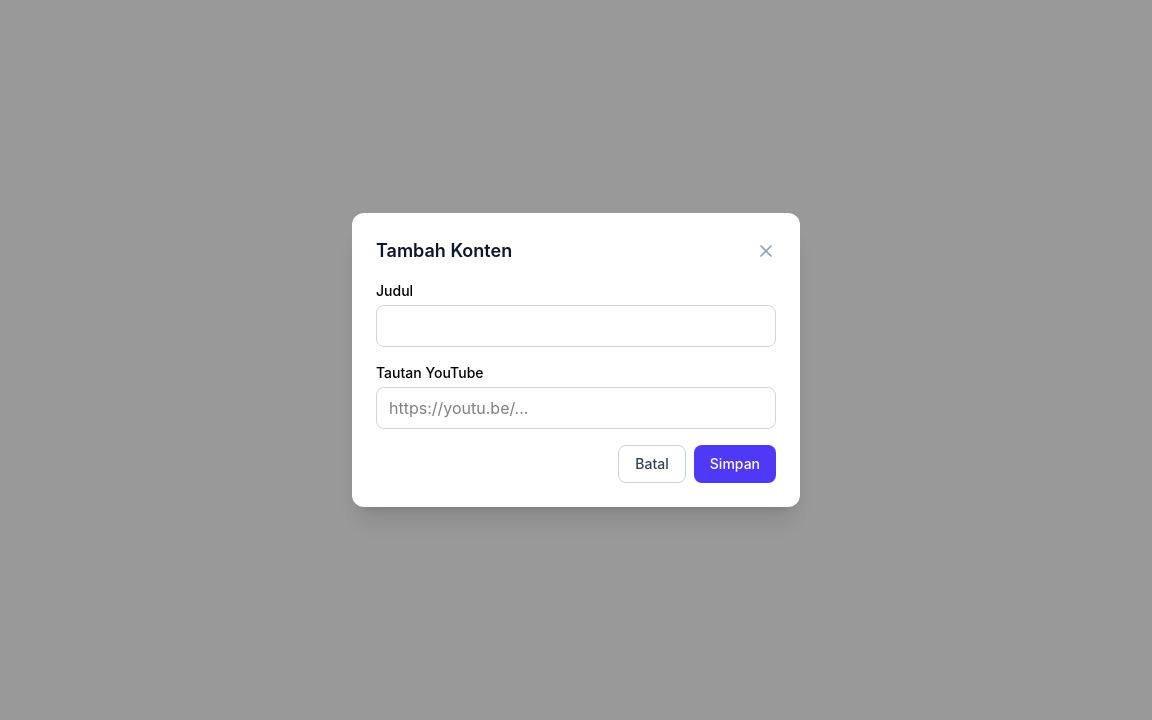
it: ContentModal (tambah) › menolak isian kosong
The width and height of the screenshot is (1152, 720).
Click the button "Simpan" at (735, 464), box [694,445,776,483]
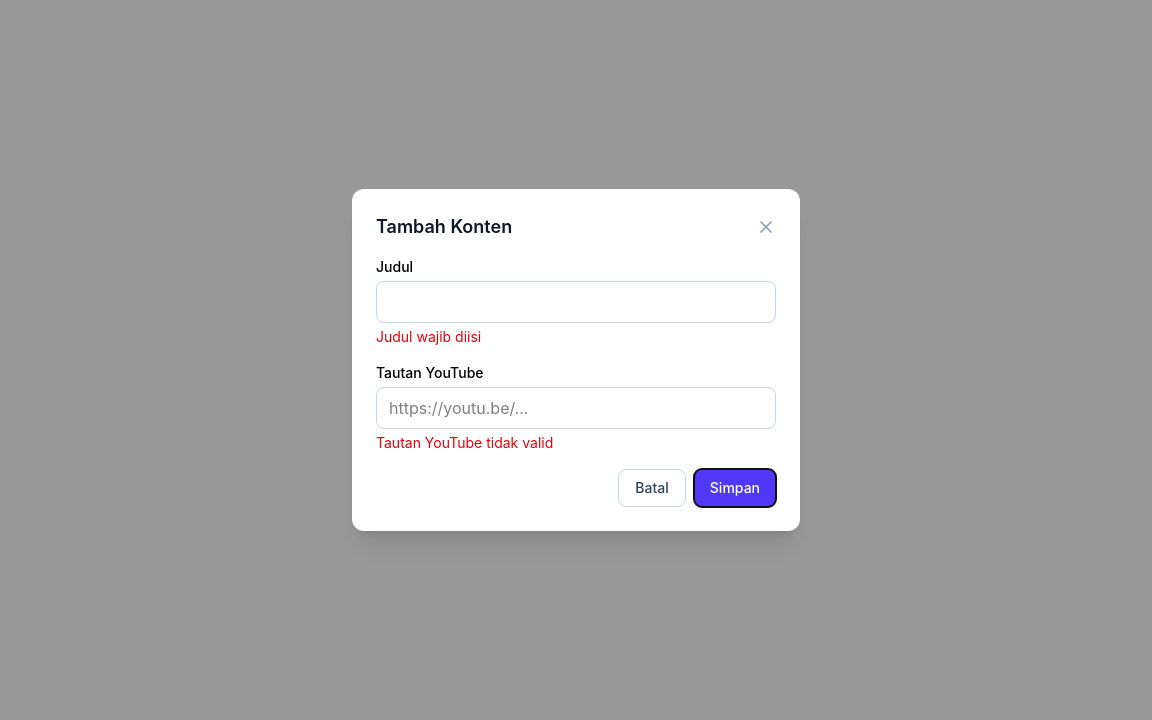
Expected: the text "Judul wajib diisi" is shown, [376,328,481,345]
Expected: the text "Tautan YouTube tidak valid" is shown, [376,434,553,451]
